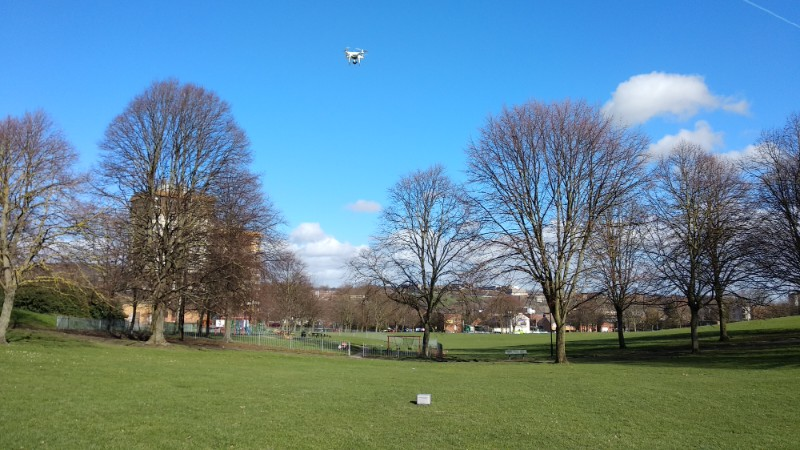drone: (340, 47, 368, 68)
